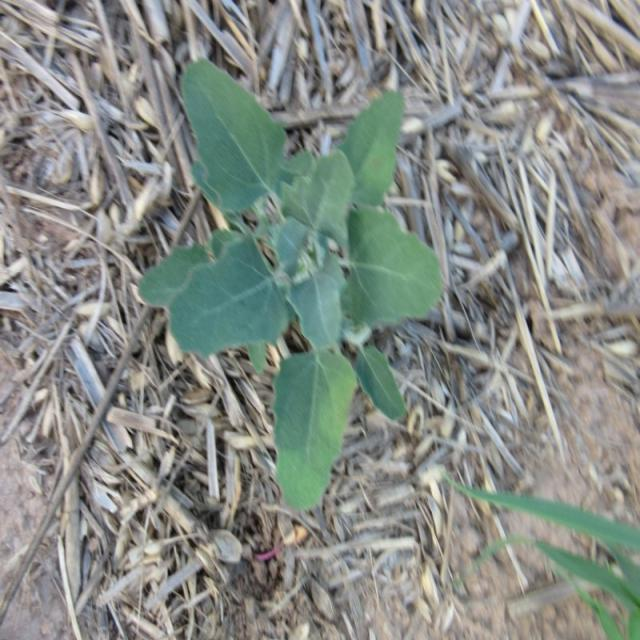ca: (176, 67, 444, 513)
